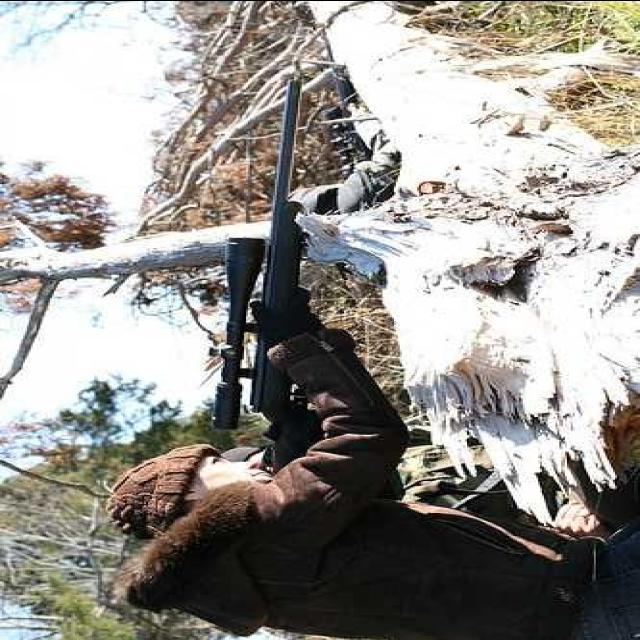heavyweapon: (184, 55, 348, 469)
